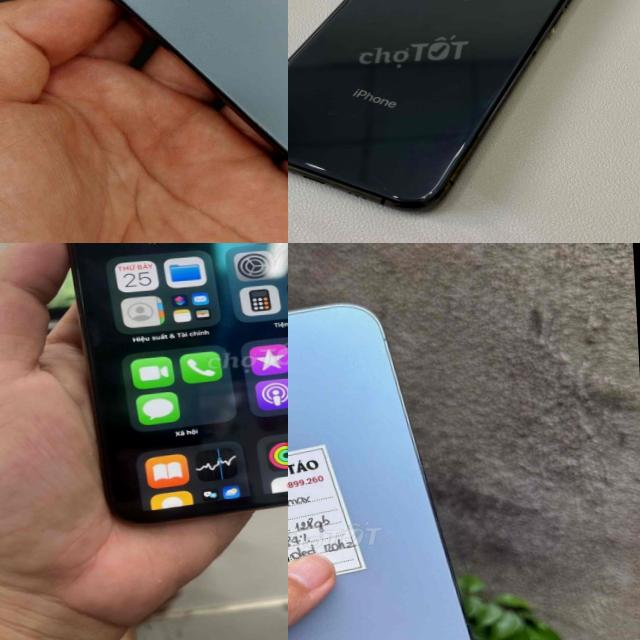gen_12_13: (288, 293, 492, 640), (0, 0, 288, 238)
gen_x_xs: (38, 243, 288, 529), (288, 0, 570, 209)
